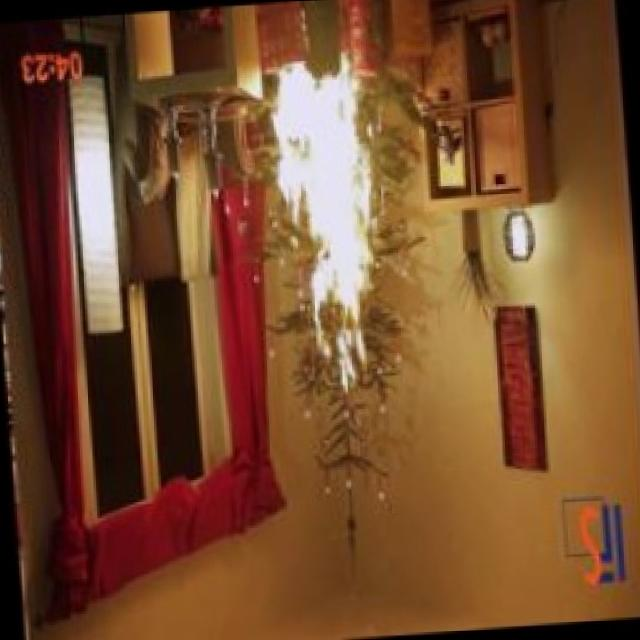fire: (243, 46, 410, 391)
